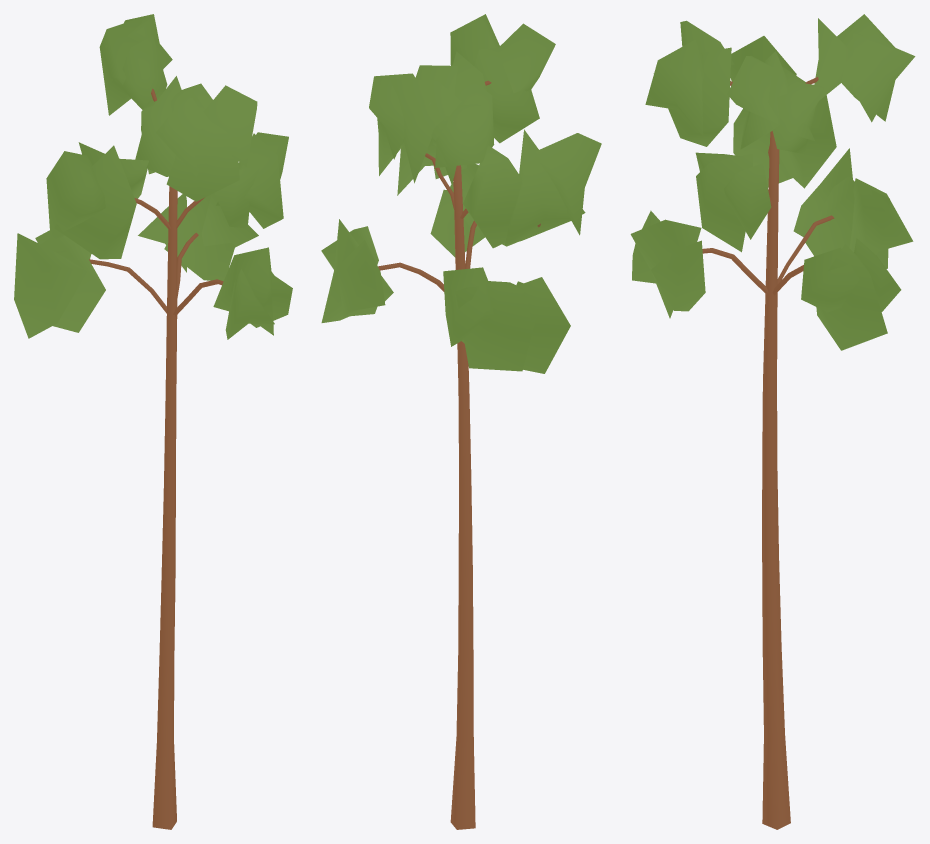
Rendered from Blender_LongleafPine_2_Far.glb.
3 views of the same model, side by side, from view 1: azimuth 30°, elevation 25°; view 2: azimuth 150°, elevation 25°; view 3: azimuth 270°, elevation 25° (orthographic). The views are drawn at different scales.
Parts seen in each view (by area): view 1: Blender_LongleafPine_2_Far; view 2: Blender_LongleafPine_2_Far; view 3: Blender_LongleafPine_2_Far.
Part boxes in pixels (box(x1,y1,x2,y2)): Blender_LongleafPine_2_Far: box(14, 14, 292, 829); Blender_LongleafPine_2_Far: box(321, 14, 601, 829); Blender_LongleafPine_2_Far: box(630, 14, 915, 829).
Size of the model in its own units: 8.13 by 25.5 by 8.22.
